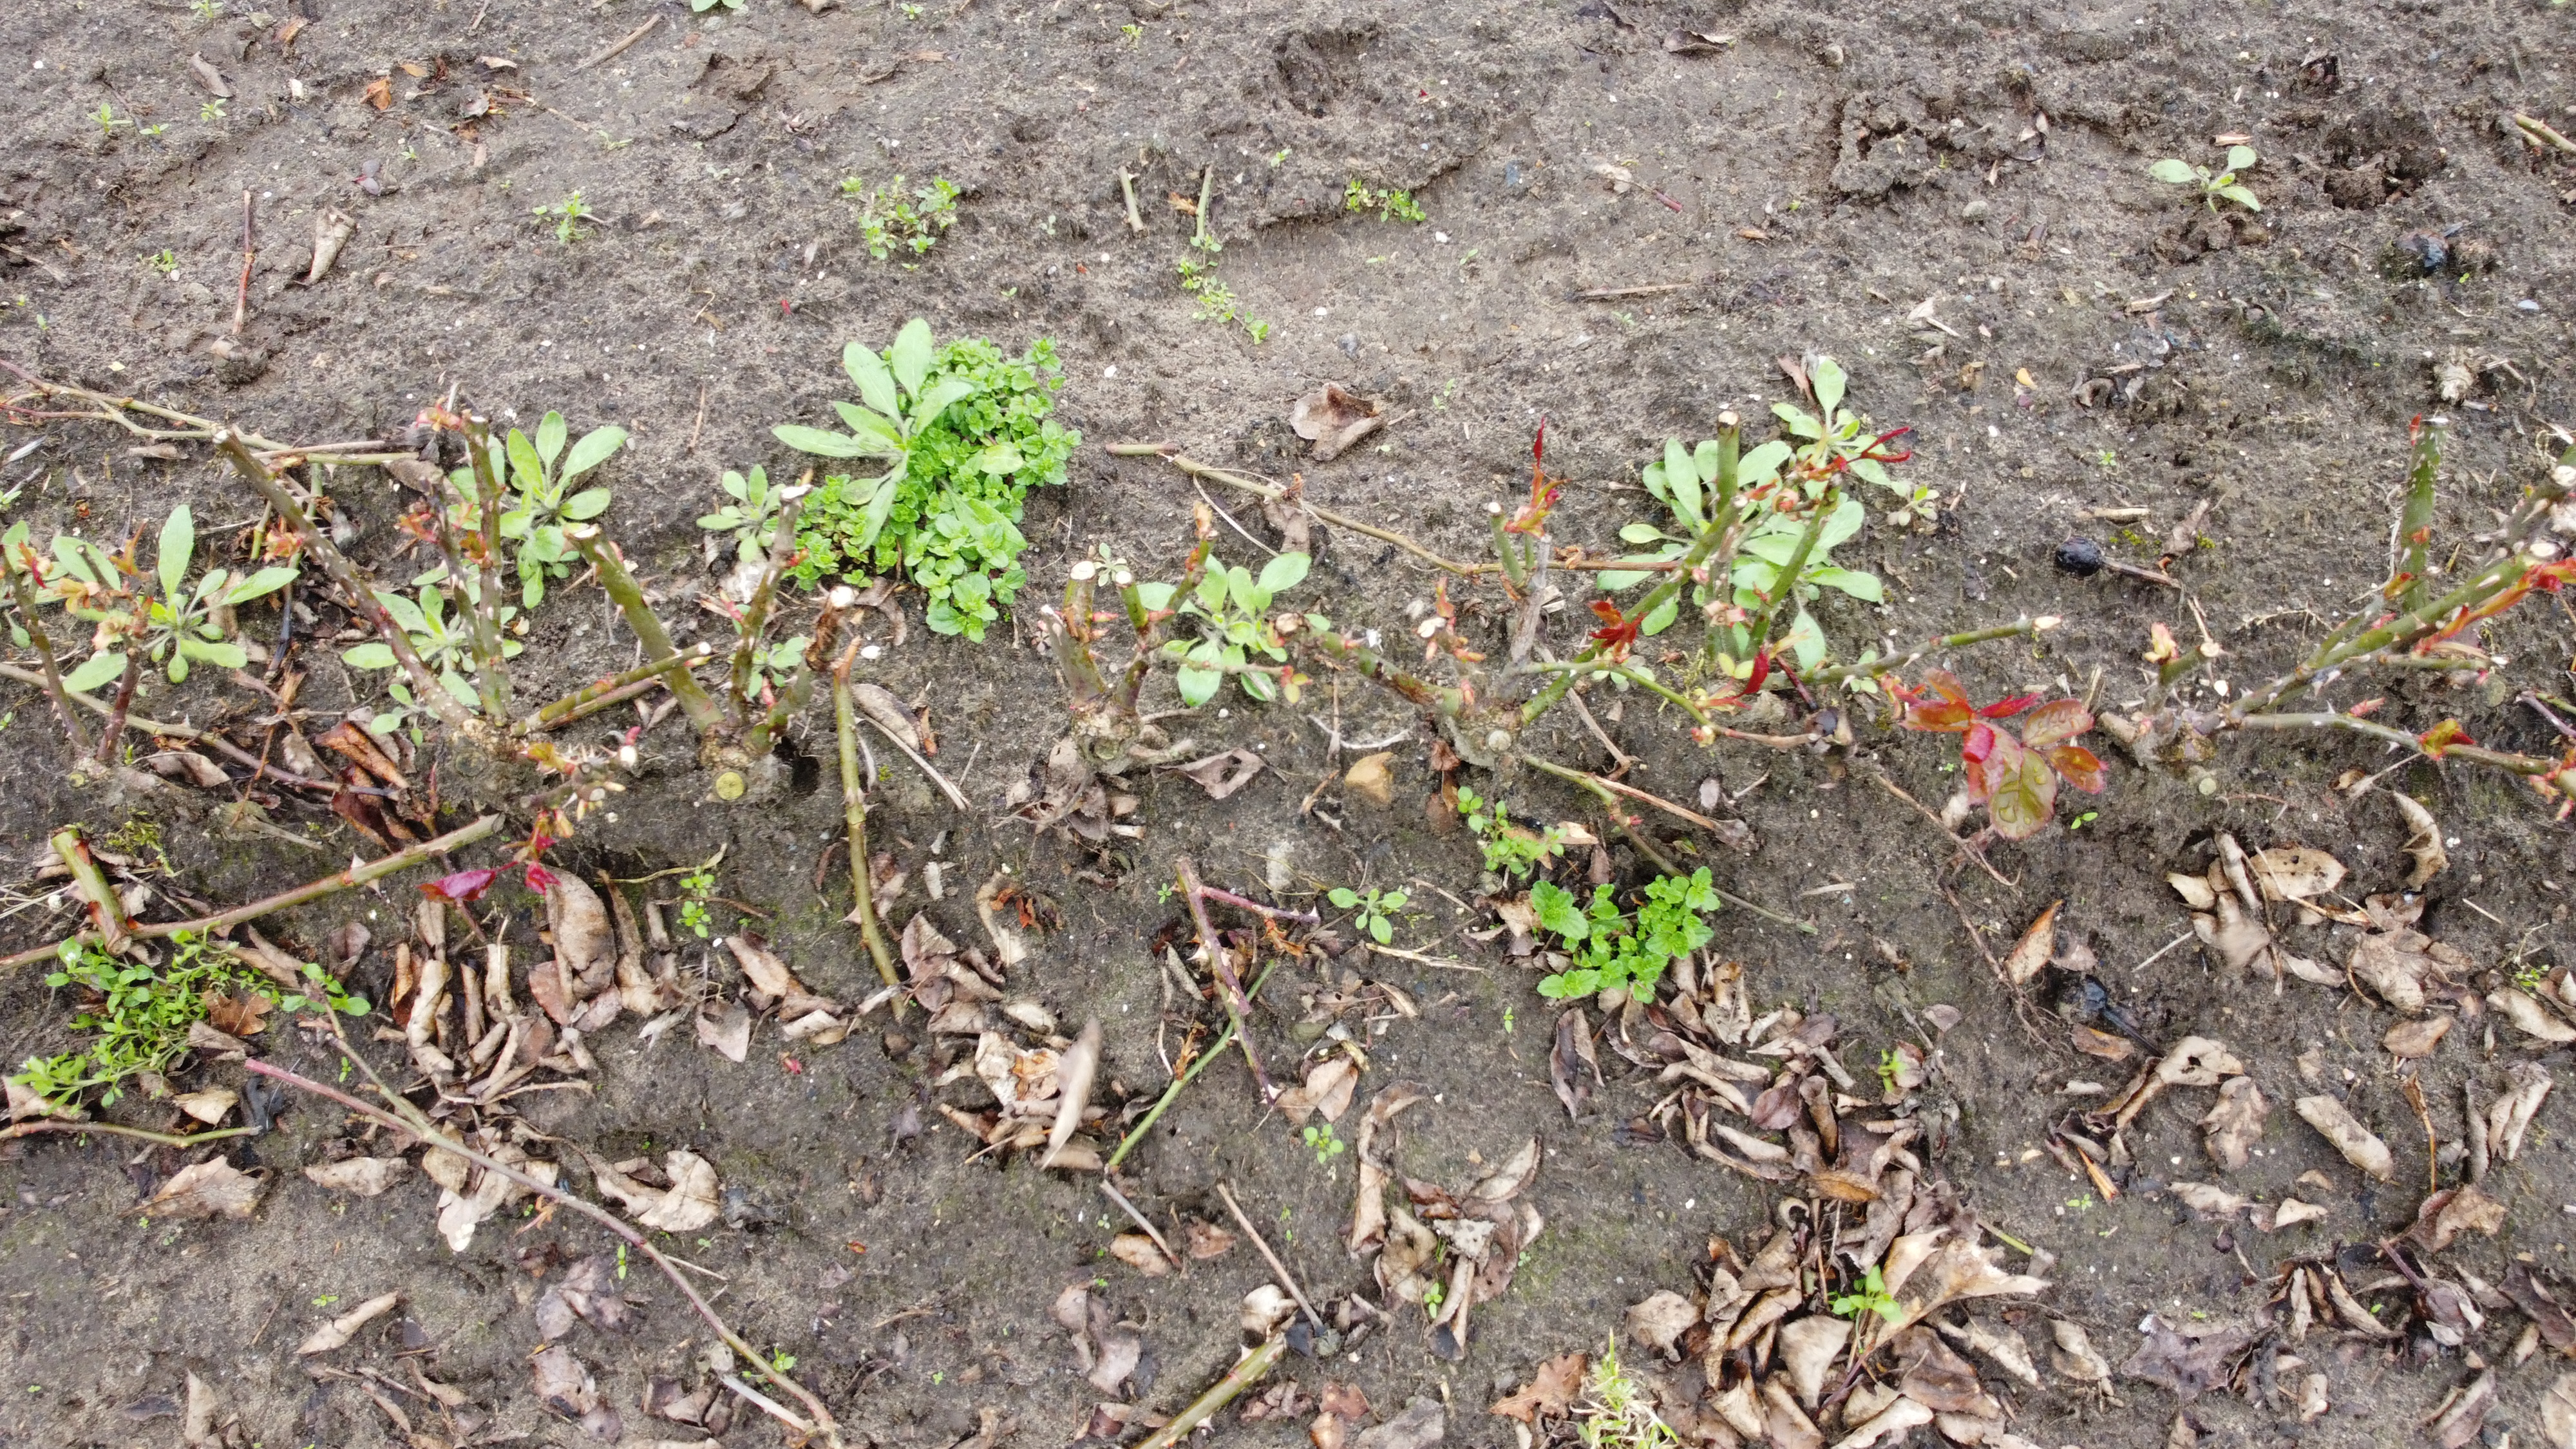Rose: (2104, 471, 2571, 777), (198, 439, 548, 828), (1311, 586, 1709, 824), (559, 522, 855, 775), (1046, 579, 1182, 796)
Weed: (731, 315, 1079, 646), (1606, 357, 1874, 651), (21, 906, 301, 1085), (58, 540, 295, 679), (1514, 879, 1714, 1007), (1131, 556, 1300, 697), (437, 418, 594, 561), (340, 589, 504, 697), (840, 157, 966, 260), (0, 508, 81, 617), (2144, 145, 2263, 219), (1458, 789, 1545, 872), (1320, 878, 1403, 945), (1826, 1253, 1902, 1323), (1338, 173, 1421, 226), (748, 640, 807, 704), (531, 188, 594, 244), (676, 863, 718, 938), (1890, 478, 1941, 534), (1297, 1113, 1345, 1169), (136, 242, 179, 276), (1417, 1272, 1438, 1316), (87, 104, 127, 127), (612, 1240, 633, 1281), (196, 96, 223, 119), (138, 122, 168, 140), (2093, 442, 2114, 464), (1152, 883, 1169, 904)
